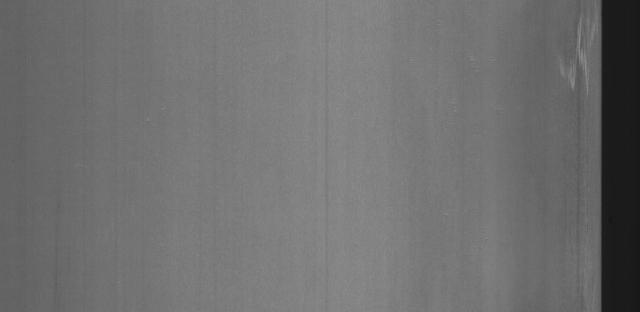silk_spot: (546, 16, 600, 95)
